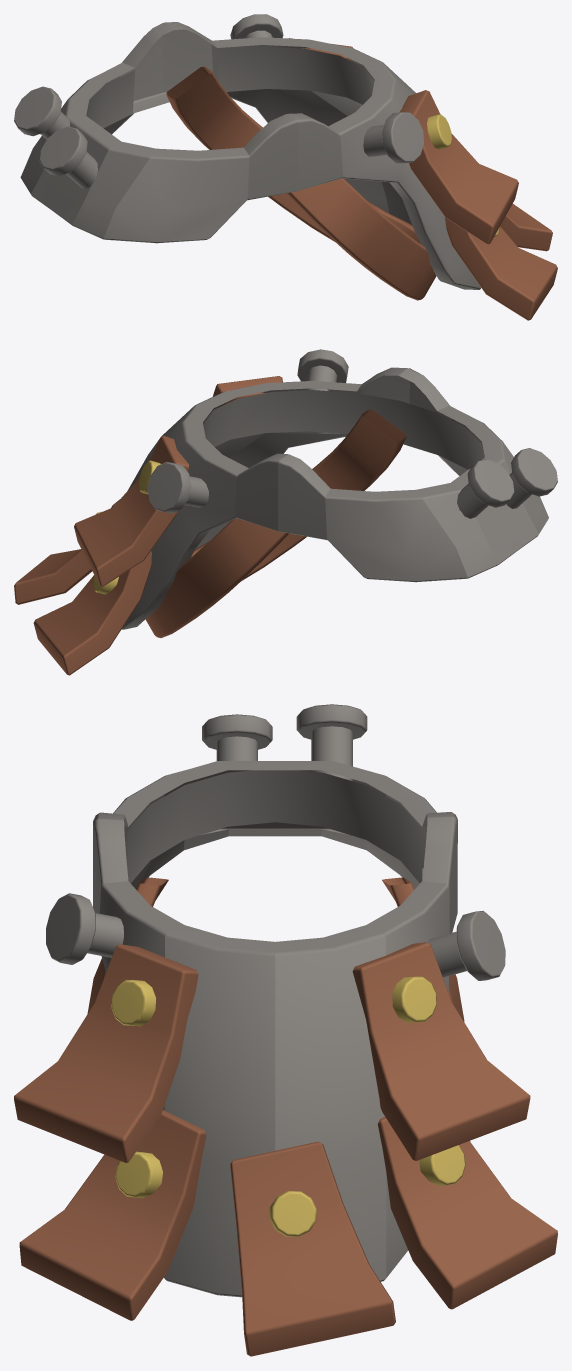
The model's file is Admirals_Belt_Mesh.fbx.
3 renders of one model, top to bottom at view 1: azimuth 30°, elevation 25°; view 2: azimuth 150°, elevation 25°; view 3: azimuth 270°, elevation 25°, orthographic. The views are drawn at different scales.
Parts seen in each view (by area): view 1: Admirals_Belt1; view 2: Admirals_Belt1; view 3: Admirals_Belt1.
Part boxes in pixels (bbox=[...]): Admirals_Belt1: bbox=[14, 14, 557, 320]; Admirals_Belt1: bbox=[14, 349, 557, 675]; Admirals_Belt1: bbox=[14, 704, 557, 1356].
Bounding box in the file's own units: 49 × 23.88 × 33.28.
